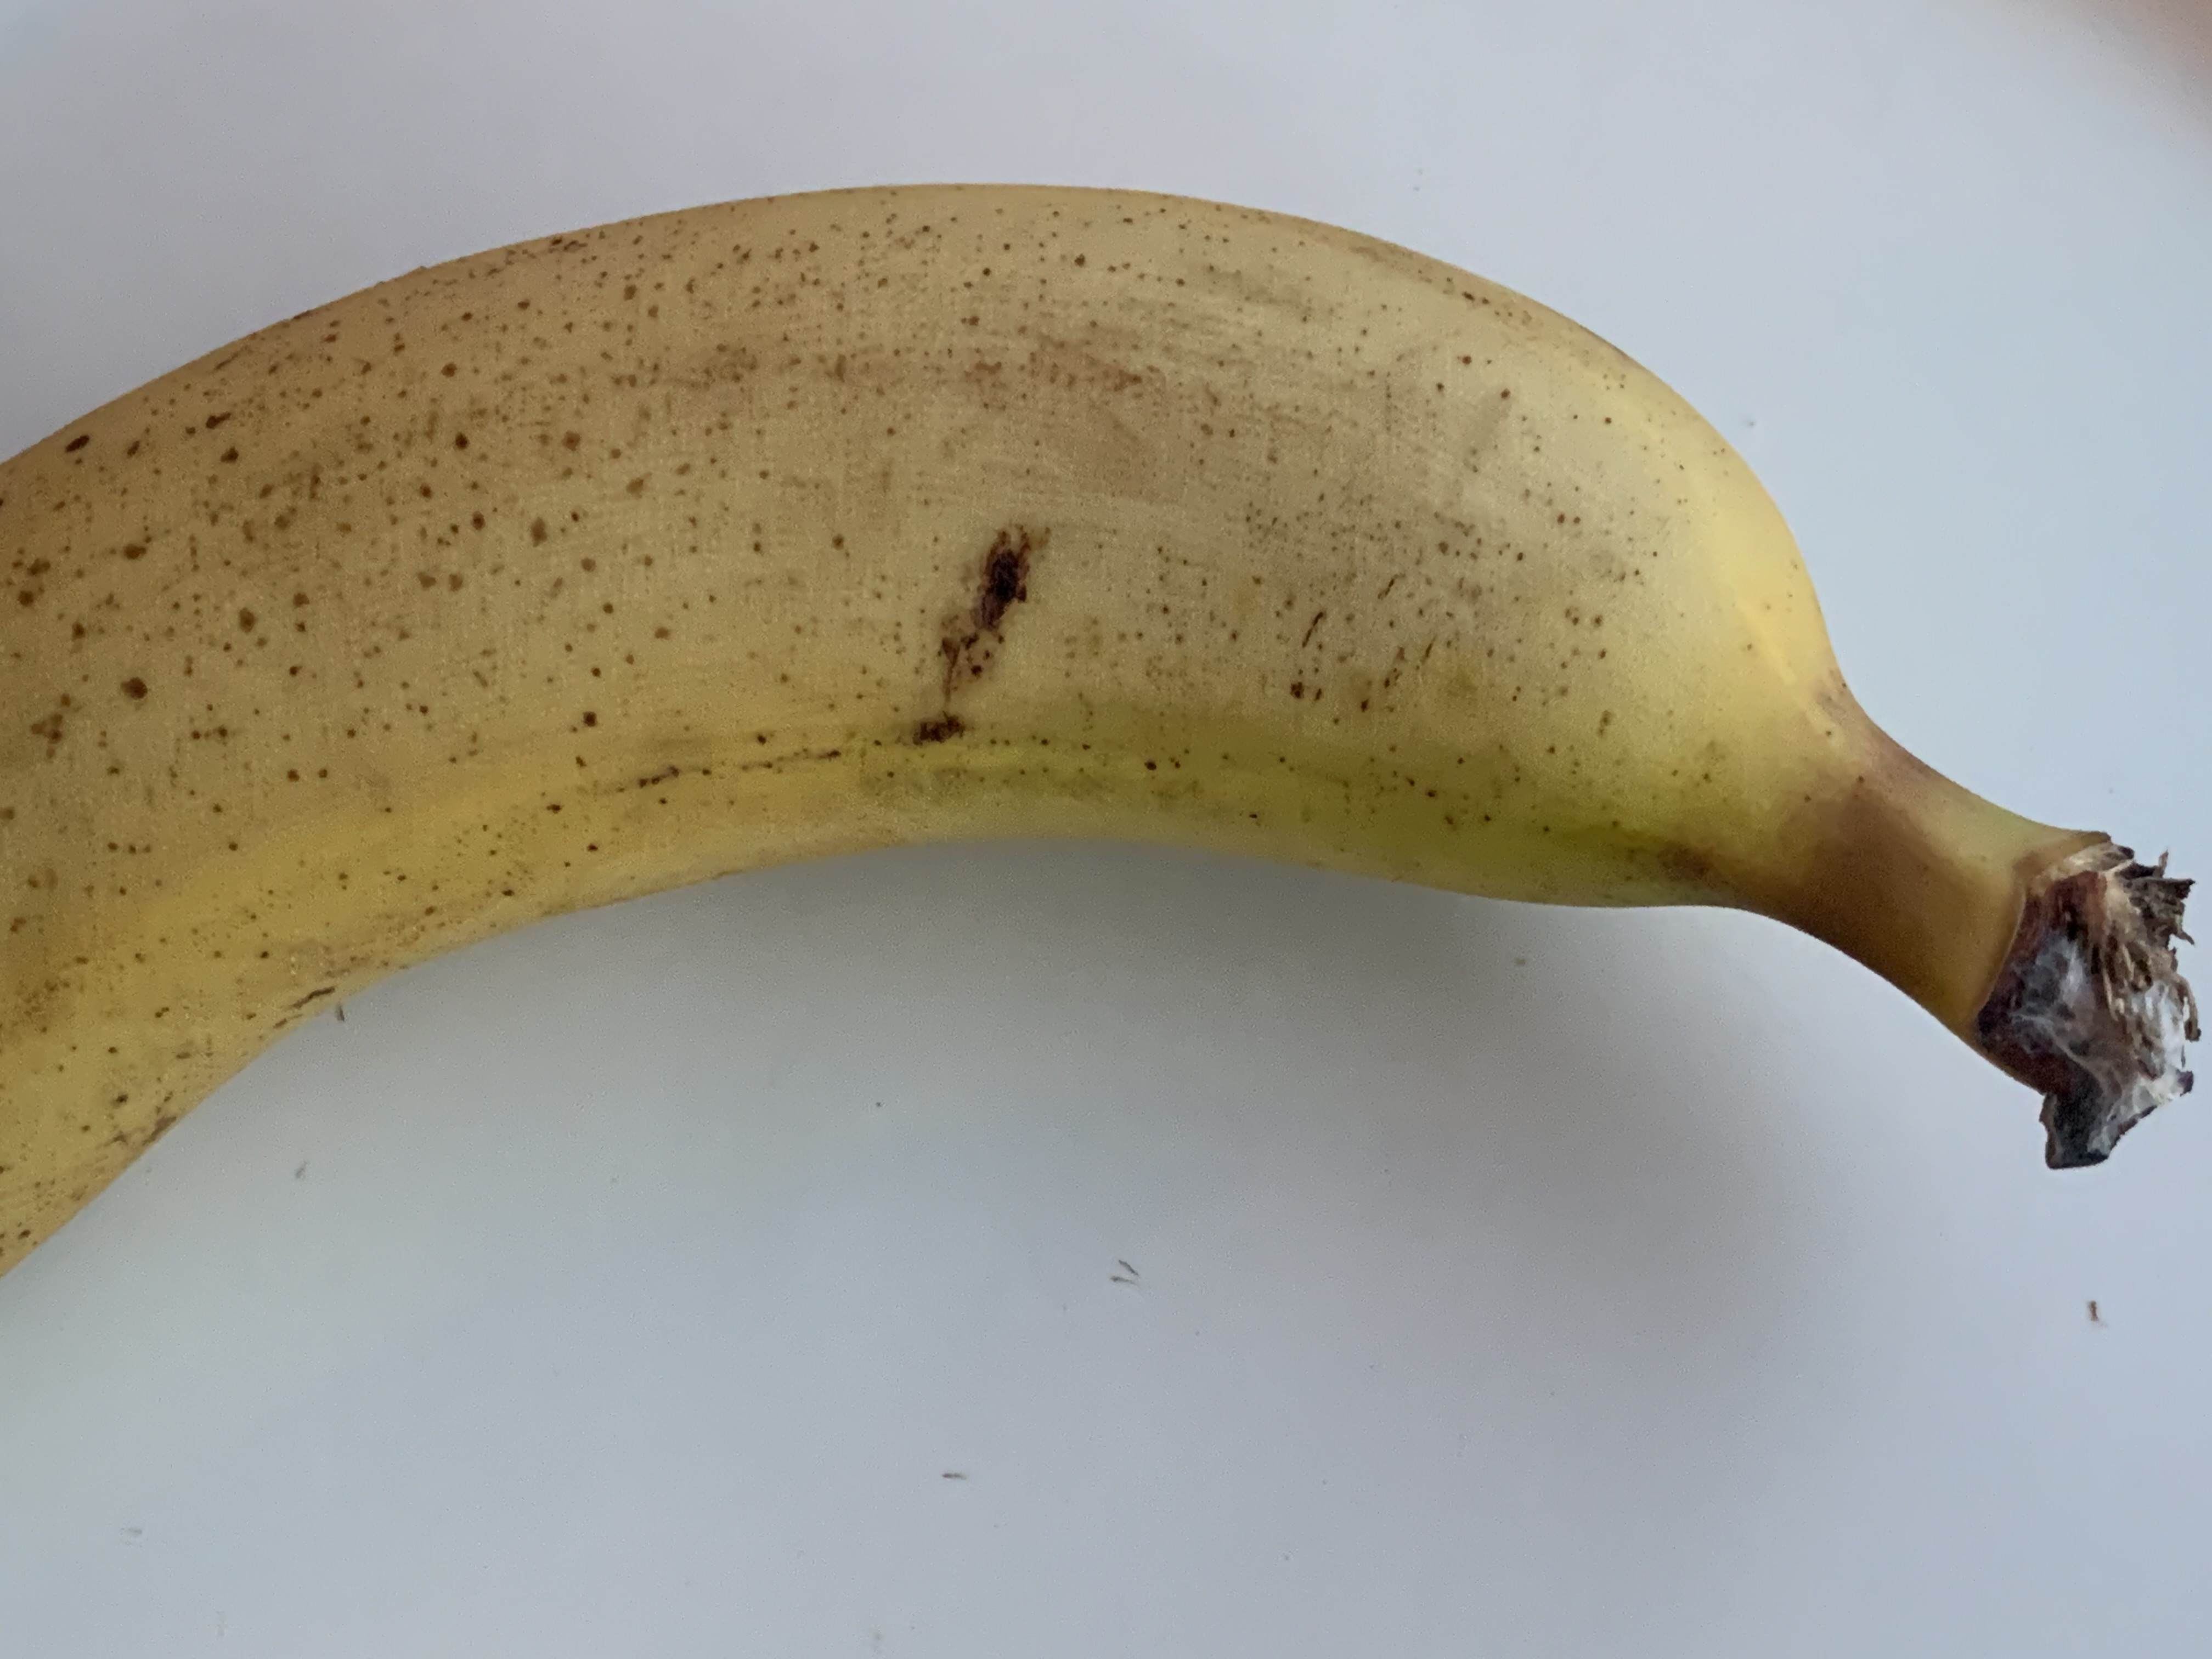banana: (2, 183, 2212, 1230)
